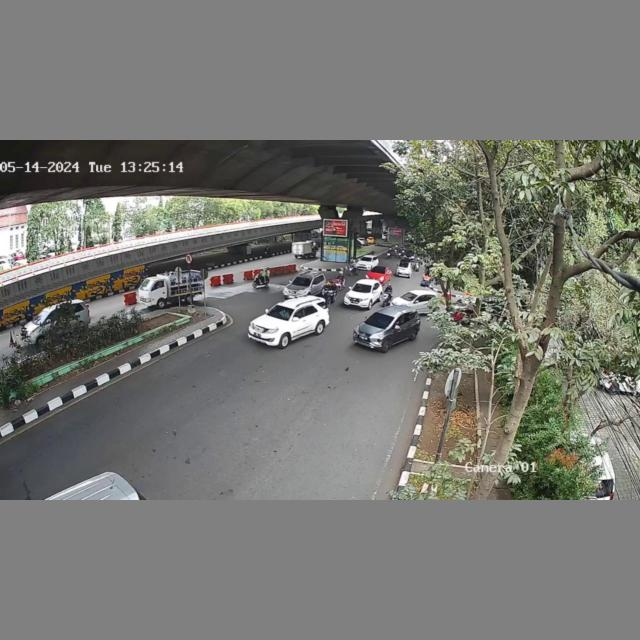windshield: (364, 312, 397, 329), (269, 305, 296, 322), (351, 282, 375, 294), (291, 275, 313, 286)
